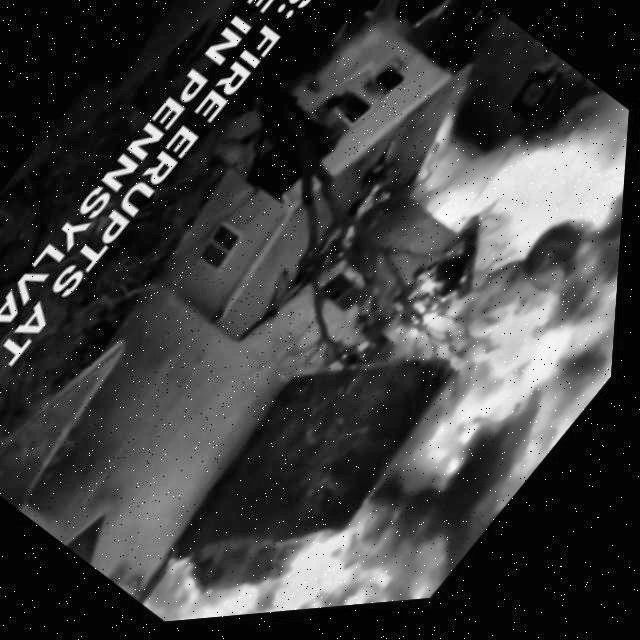Fire: (139, 407, 483, 628), (363, 193, 600, 437)
Smoke: (377, 164, 629, 566), (406, 45, 635, 317)
